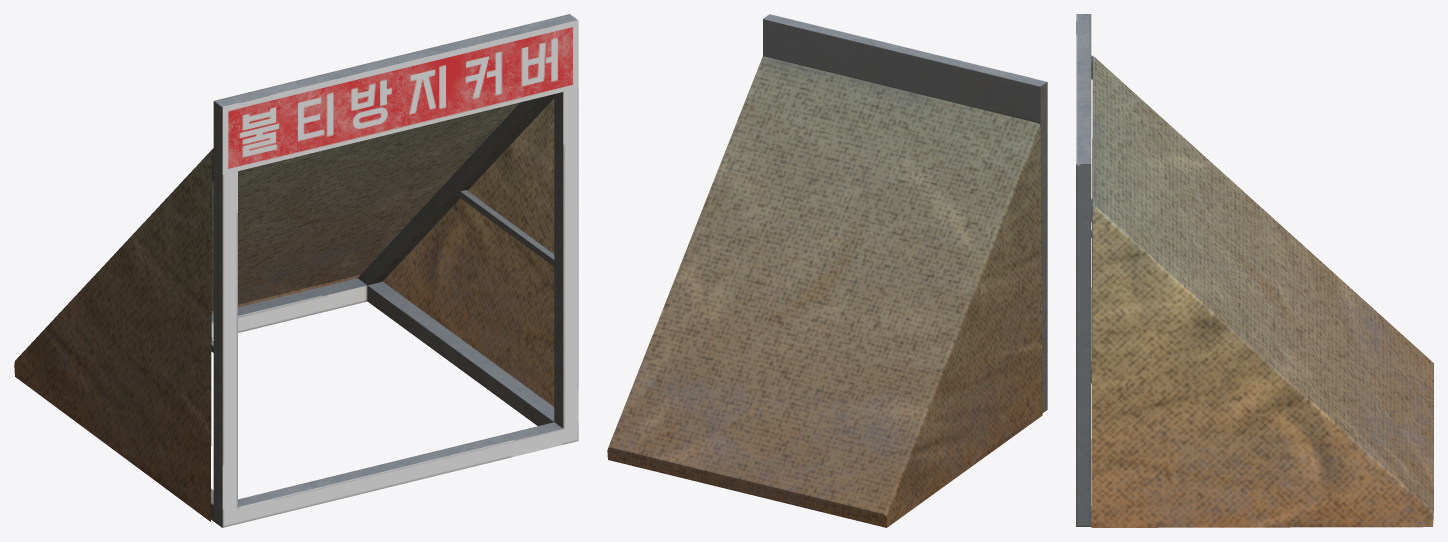
Rendered from tool_Antifire.fbx.
3 renders of one model, left to right at view 1: azimuth 30°, elevation 25°; view 2: azimuth 150°, elevation 25°; view 3: azimuth 270°, elevation 25°, orthographic. The views are drawn at different scales.
Visible parts, largest first — view 1: Antifire1; view 2: Antifire1; view 3: Antifire1.
Part boxes in pixels (left/top/right/bottom): Antifire1: left=14, top=14, right=578, bottom=527; Antifire1: left=607, top=14, right=1047, bottom=527; Antifire1: left=1076, top=14, right=1433, bottom=527.
Bounding box in the file's own units: 0.6166 × 0.6853 × 0.6124.
